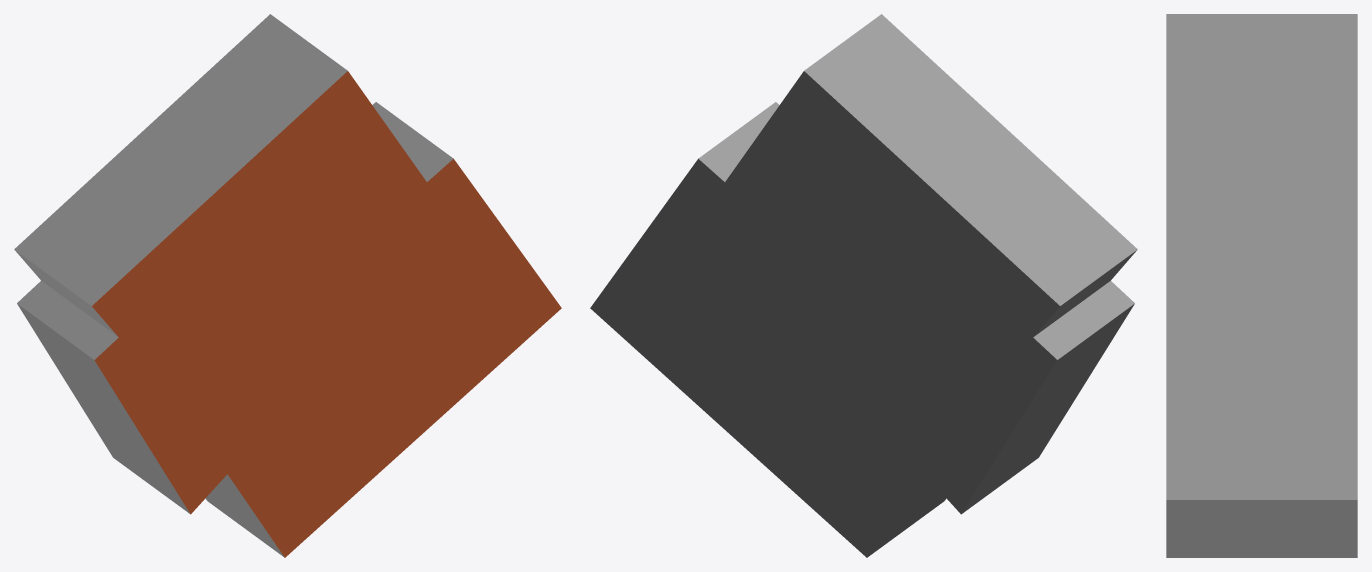
The model's file is construction_3678_assumed_A_Casa_h6m.obj.
3 views of the same model, side by side, from view 1: azimuth 30°, elevation 25°; view 2: azimuth 150°, elevation 25°; view 3: azimuth 270°, elevation 25° (orthographic). The views are drawn at different scales.
Visible parts, largest first — view 1: construction_3678_assumed_A_Casa; view 2: construction_3678_assumed_A_Casa; view 3: construction_3678_assumed_A_Casa.
Part boxes in pixels (box(x1,y1,x2,y2)): construction_3678_assumed_A_Casa: box(14, 14, 561, 557); construction_3678_assumed_A_Casa: box(590, 14, 1137, 557); construction_3678_assumed_A_Casa: box(1166, 14, 1357, 557).
Size of the model in its own units: 20.98 by 20.11 by 6.
